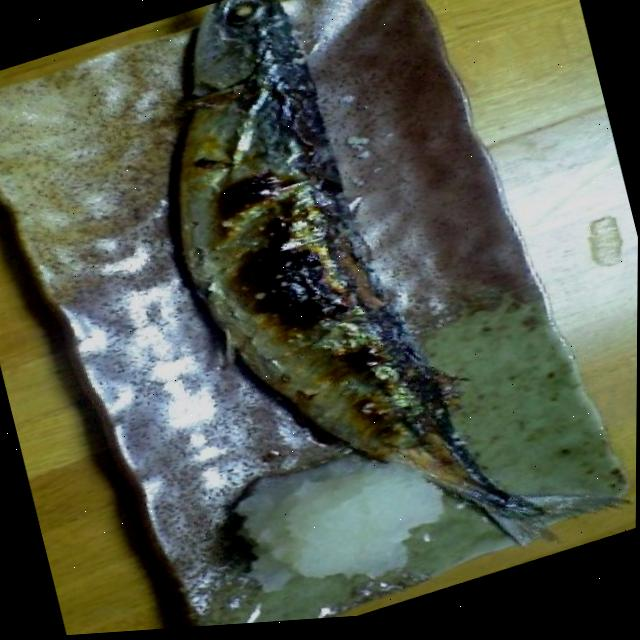熟制海鲜: (136, 0, 551, 633)
